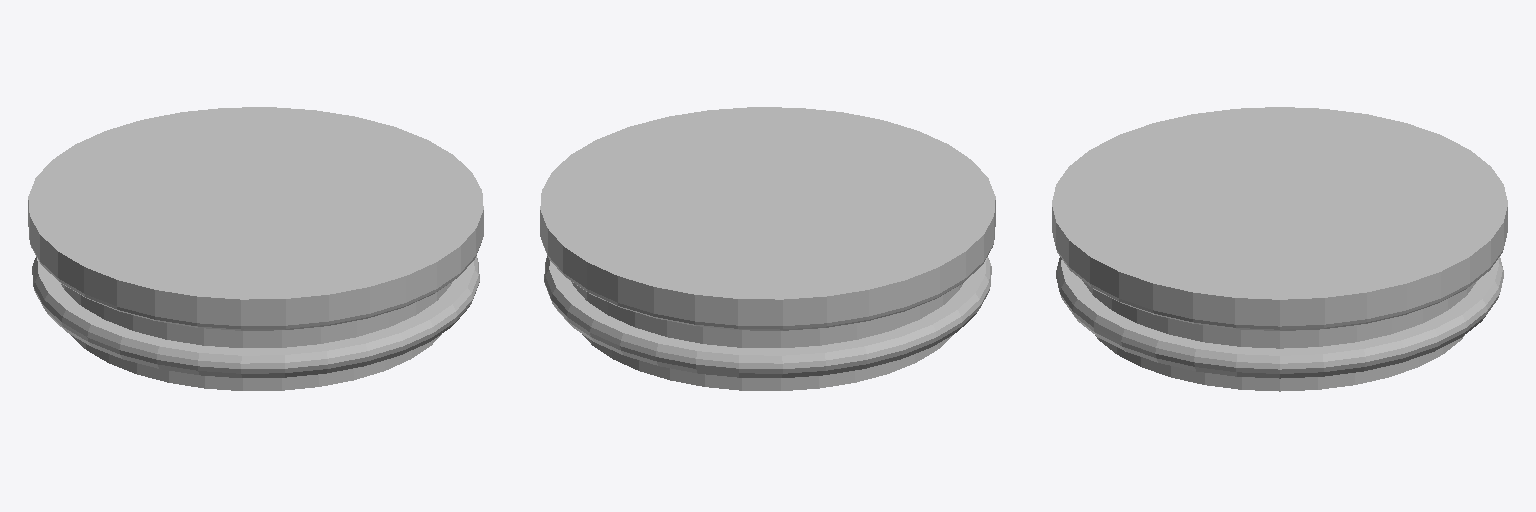
File: PillarTop.obj
3 renders of one model, left to right at view 1: azimuth 30°, elevation 25°; view 2: azimuth 150°, elevation 25°; view 3: azimuth 270°, elevation 25°, orthographic.
Parts seen in each view (by area): view 1: PillarBase; view 2: PillarBase; view 3: PillarBase.
Boxes of the visible parts, box(x1,y1,x2,y2) form: PillarBase: box(28, 107, 483, 390); PillarBase: box(540, 107, 995, 390); PillarBase: box(1052, 107, 1507, 391).
Bounding box in the file's own units: 1.16 × 0.2951 × 1.16.